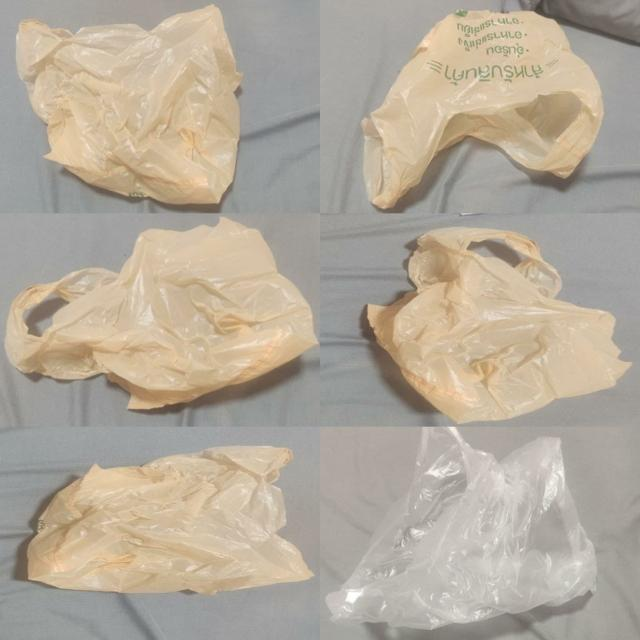Single-layer Plastic: (5, 218, 318, 409), (327, 428, 597, 629), (368, 228, 630, 422), (362, 10, 603, 208), (16, 5, 241, 204), (28, 446, 313, 594)
